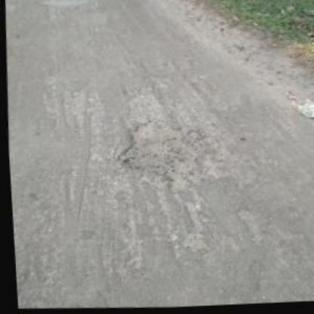Hueco: (115, 119, 210, 181)
